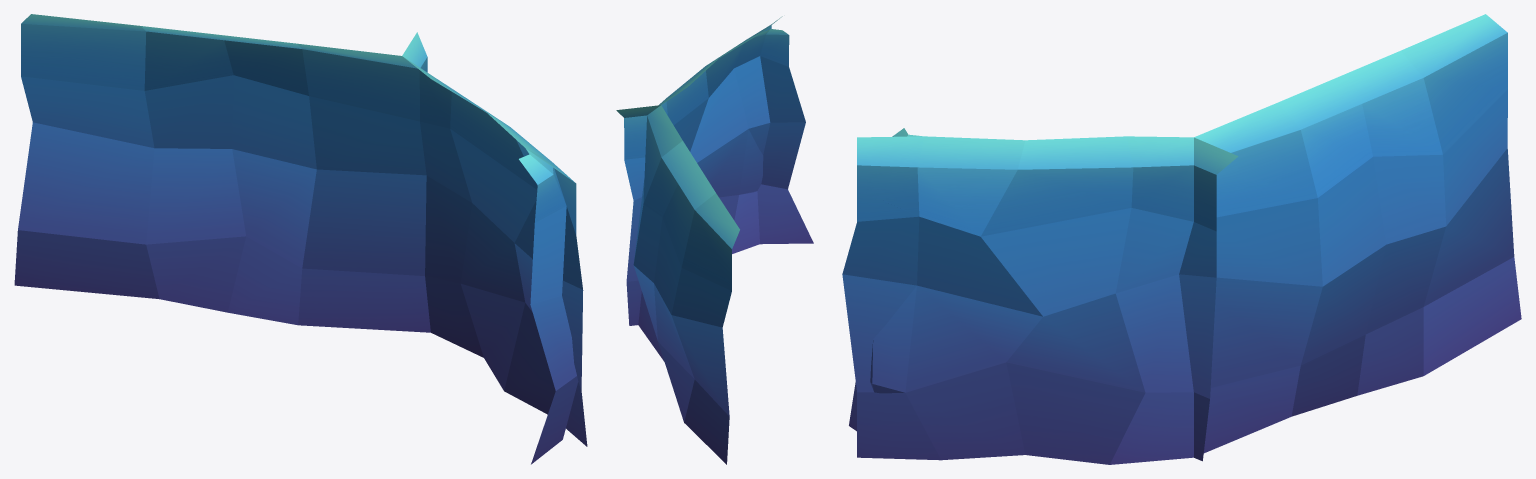
File: Sides.fbx
The picture shows the model from 3 angles, left to right: view 1: azimuth 30°, elevation 25°; view 2: azimuth 150°, elevation 25°; view 3: azimuth 270°, elevation 25°; orthographic projection. The views are drawn at different scales.
Visible parts, largest first — view 1: Diagonal, Side, SideSmallRight, OuterCorner, SideSmallLeft; view 2: Diagonal, OuterCorner, Side, InnerCorner, SideSmallLeft; view 3: Diagonal, Side, SideSmallRight, SideSmallLeft, InnerCorner, OuterCorner.
Part boxes in pixels (left/top/right/bottom): Diagonal: left=14, top=14, right=430, bottom=332; Side: left=433, top=80, right=555, bottom=414; SideSmallRight: left=404, top=57, right=483, bottom=357; OuterCorner: left=519, top=149, right=578, bottom=464; SideSmallLeft: left=527, top=149, right=587, bottom=446; Diagonal: left=633, top=105, right=739, bottom=464; OuterCorner: left=732, top=29, right=813, bottom=253; Side: left=666, top=33, right=760, bottom=219; InnerCorner: left=616, top=105, right=660, bottom=325; SideSmallLeft: left=738, top=16, right=782, bottom=194; Diagonal: left=1194, top=14, right=1521, bottom=453; Side: left=905, top=136, right=1145, bottom=464; SideSmallRight: left=1110, top=136, right=1193, bottom=464; SideSmallLeft: left=842, top=136, right=940, bottom=460; InnerCorner: left=1179, top=137, right=1238, bottom=461; OuterCorner: left=849, top=128, right=921, bottom=431.
Bounding box in the file's own units: 307 × 305 × 605.
